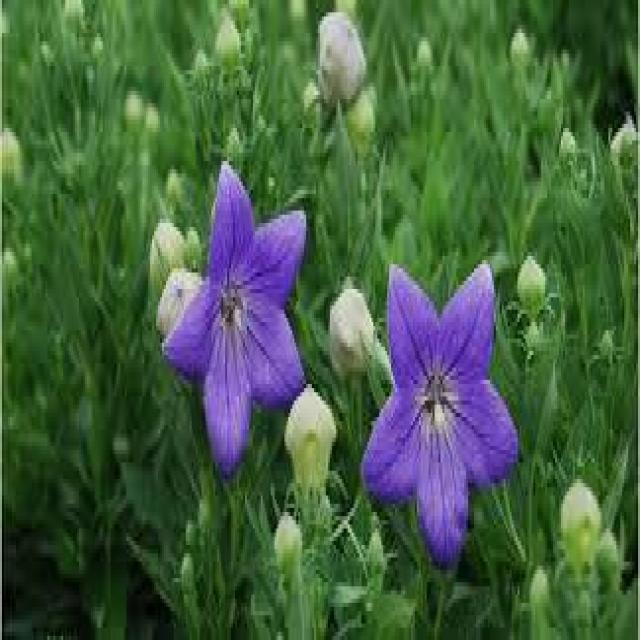organic waste: (364, 254, 522, 580), (162, 159, 310, 464)
